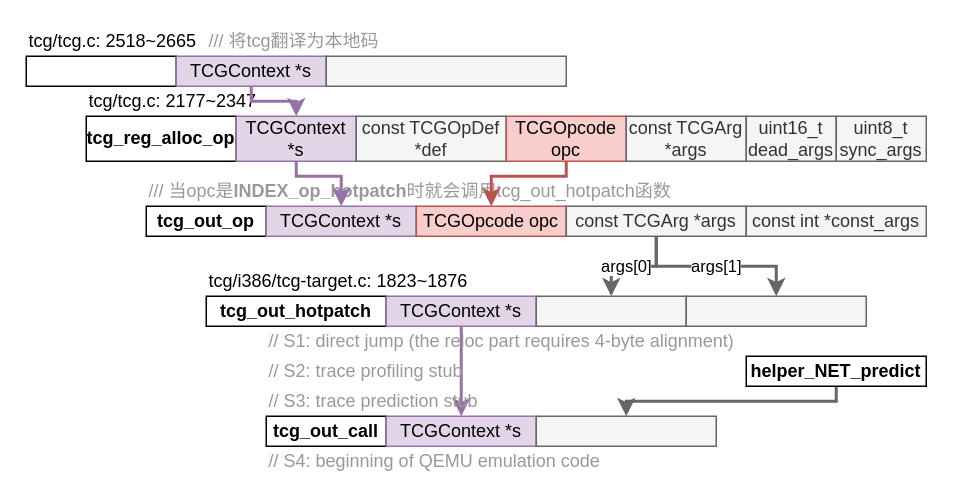
The diagram is 953 pixels wide and 501 high, and some of its shapes have lost their labels. Here are the shapes that lost their labels. From the top down, the centre of each, then its label:
At point (100, 70): "tcg_gen_code".
At point (445, 70): "tcg_insn_unit *gen_code_buf".
At point (610, 310): "uint32_t is_user".
At point (775, 310): "uint32_t emit_helper".
At point (625, 430): "tcg_insn_unit *dest".
